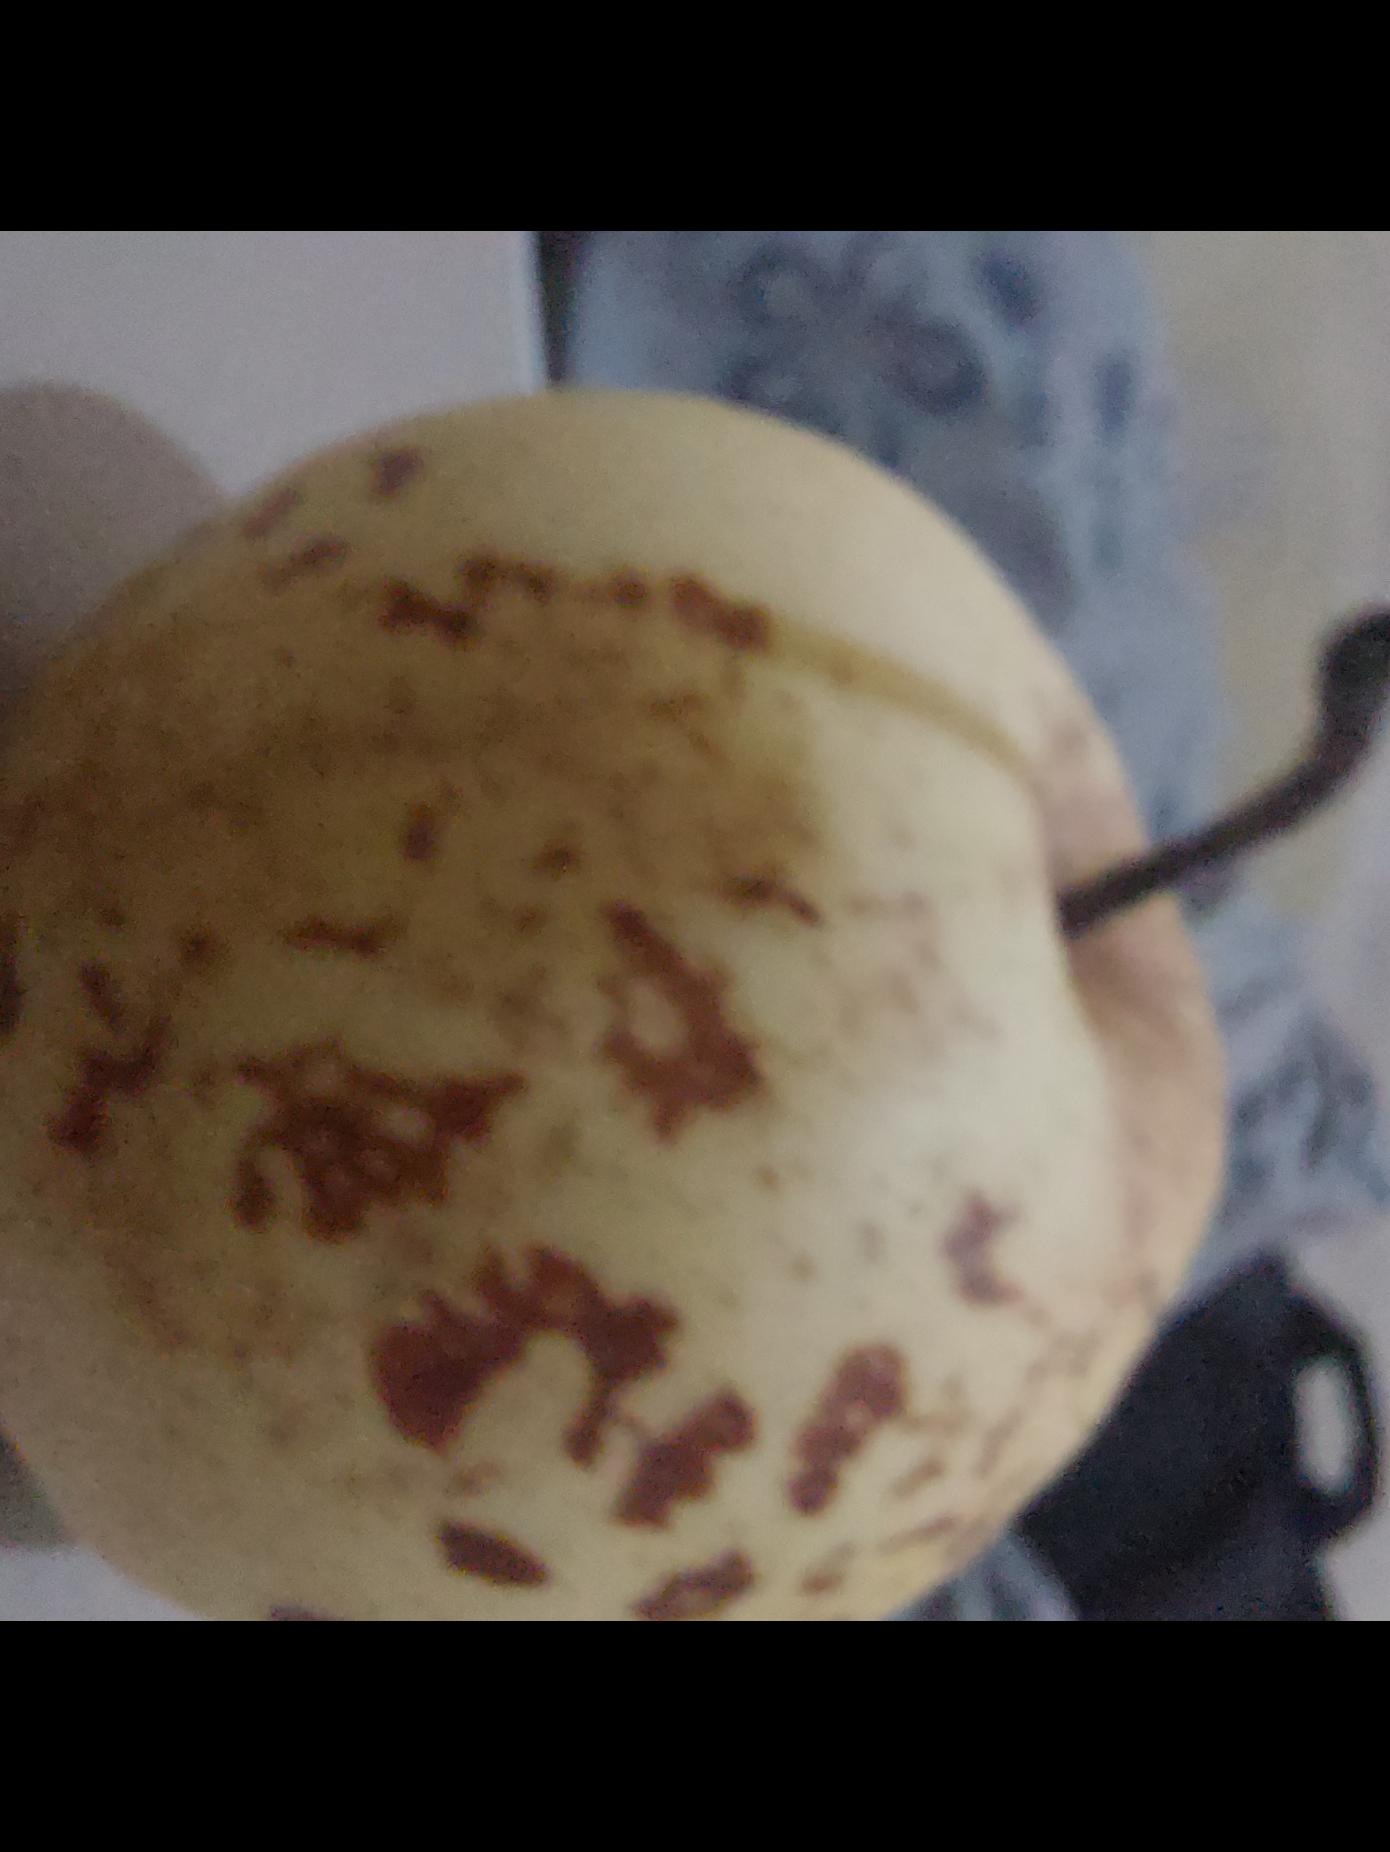Bad Pear: (0, 365, 1241, 1621)
